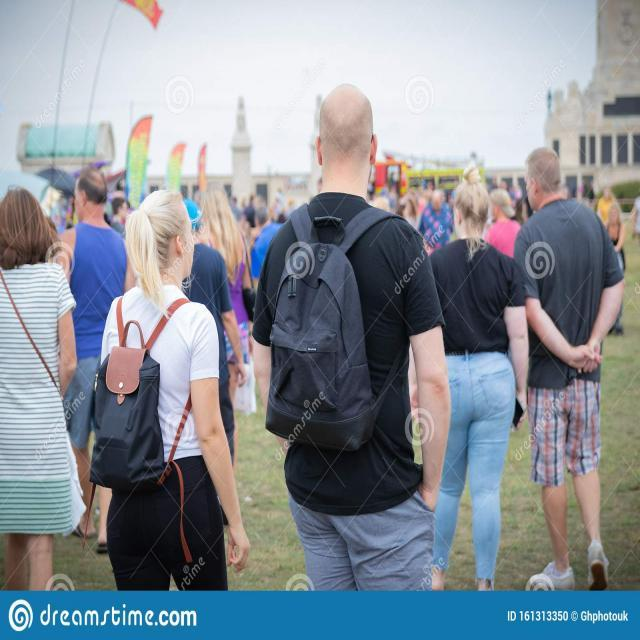Backpacks: (255, 231, 373, 454), (94, 343, 175, 492)
